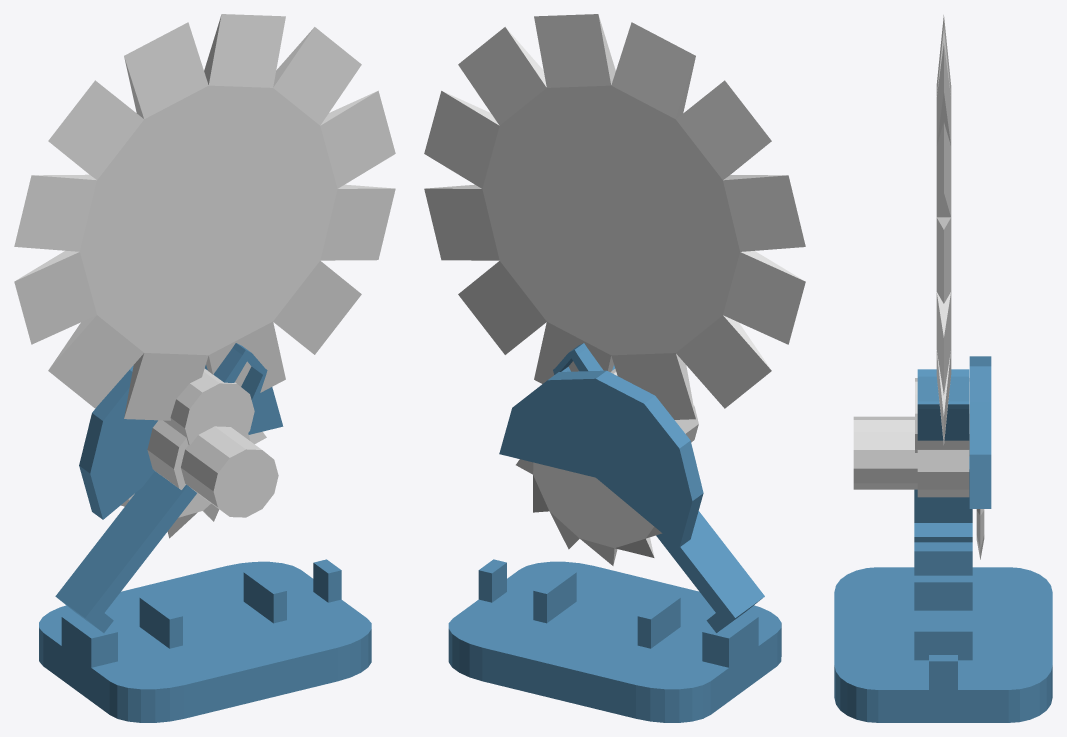
The model's file is standsaegeGLTF.gltf.
The picture shows the model from 3 angles, left to right: view 1: azimuth 30°, elevation 25°; view 2: azimuth 150°, elevation 25°; view 3: azimuth 270°, elevation 25°; orthographic projection. The views are drawn at different scales.
Parts seen in each view (by area): view 1: saegeblatt.bkp, base, stange, motor, top, Cylinder, Cube.003, Cube.001, Cube.002, motor.001, Cube, saegeblatt; view 2: saegeblatt.bkp, base, top, saegeblatt, stange, Cube.003, Cube.001, Cube.002, Cube, motor.001; view 3: base, motor, saegeblatt.bkp, top, motor.001, stange, Cube.002, Cube.003, Cube.001, Cube, Cylinder, saegeblatt.
Part boxes in pixels (x1=…): saegeblatt.bkp: x1=14, y1=14, x2=395, y2=420; base: x1=39, y1=561, x2=371, y2=722; stange: x1=55, y1=471, x2=196, y2=632; motor: x1=147, y1=420, x2=278, y2=517; top: x1=79, y1=365, x2=283, y2=519; Cylinder: x1=163, y1=368, x2=254, y2=445; Cube.003: x1=61, y1=613, x2=117, y2=667; Cube.001: x1=243, y1=569, x2=286, y2=623; Cube.002: x1=139, y1=594, x2=182, y2=648; motor.001: x1=205, y1=343, x2=267, y2=409; Cube: x1=313, y1=559, x2=341, y2=602; saegeblatt: x1=121, y1=431, x2=266, y2=538; saegeblatt.bkp: x1=424, y1=14, x2=805, y2=419; base: x1=448, y1=561, x2=781, y2=722; top: x1=499, y1=370, x2=703, y2=547; saegeblatt: x1=516, y1=459, x2=662, y2=565; stange: x1=656, y1=511, x2=764, y2=632; Cube.003: x1=702, y1=613, x2=758, y2=667; Cube.001: x1=533, y1=569, x2=576, y2=623; Cube.002: x1=637, y1=594, x2=680, y2=648; Cube: x1=478, y1=559, x2=506, y2=602; motor.001: x1=553, y1=343, x2=615, y2=374; base: x1=834, y1=567, x2=1052, y2=722; motor: x1=853, y1=416, x2=969, y2=497; saegeblatt.bkp: x1=936, y1=15, x2=951, y2=444; top: x1=969, y1=356, x2=991, y2=508; motor.001: x1=917, y1=369, x2=969, y2=440; stange: x1=914, y1=456, x2=972, y2=542; Cube.002: x1=914, y1=575, x2=972, y2=610; Cube.003: x1=914, y1=542, x2=972, y2=575; Cube.001: x1=914, y1=625, x2=972, y2=660; Cube: x1=929, y1=655, x2=957, y2=689; Cylinder: x1=915, y1=378, x2=969, y2=455; saegeblatt: x1=976, y1=509, x2=984, y2=559.
Size of the model in its own units: 2.96 by 4.75 by 1.5.
